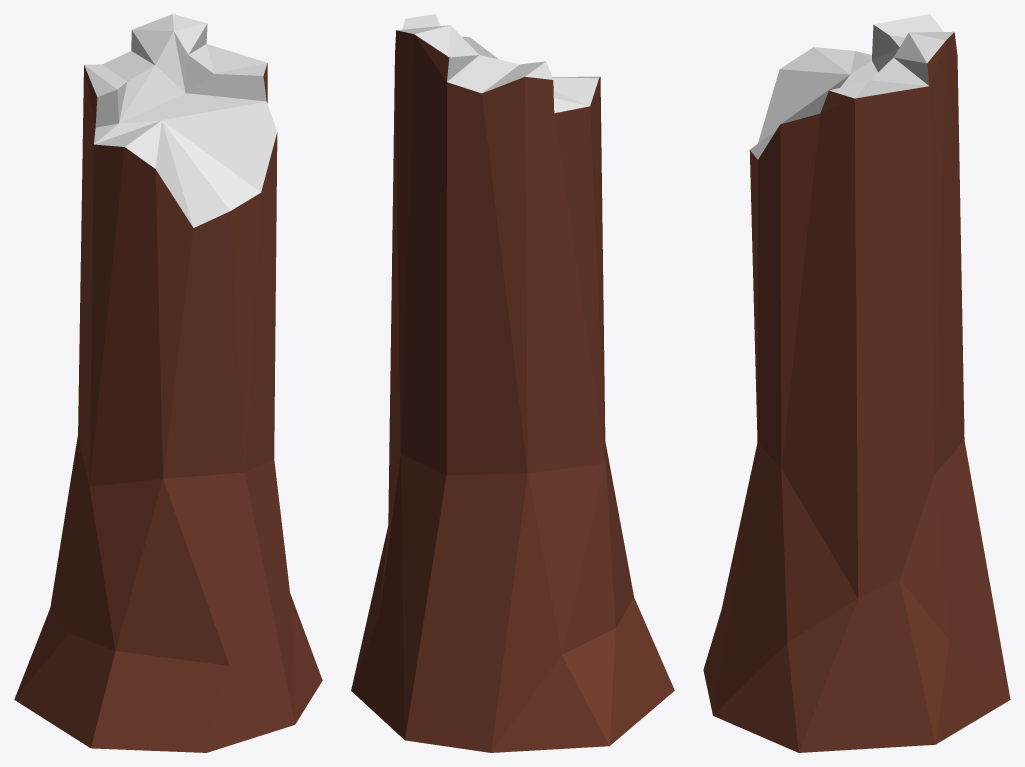
The model's file is pine_trunk_type_9_extra_LOD2.fbx.
The picture shows the model from 3 angles, left to right: view 1: azimuth 30°, elevation 25°; view 2: azimuth 150°, elevation 25°; view 3: azimuth 270°, elevation 25°; orthographic projection. The views are drawn at different scales.
Visible parts, largest first — view 1: pt_type_9.001; view 2: pt_type_9.001; view 3: pt_type_9.001.
Boxes of the visible parts, x1=… form: pt_type_9.001: x1=14, y1=14, x2=322, y2=752; pt_type_9.001: x1=351, y1=14, x2=674, y2=752; pt_type_9.001: x1=703, y1=14, x2=1010, y2=752.
Bounding box in the file's own units: 157 × 380 × 158.
